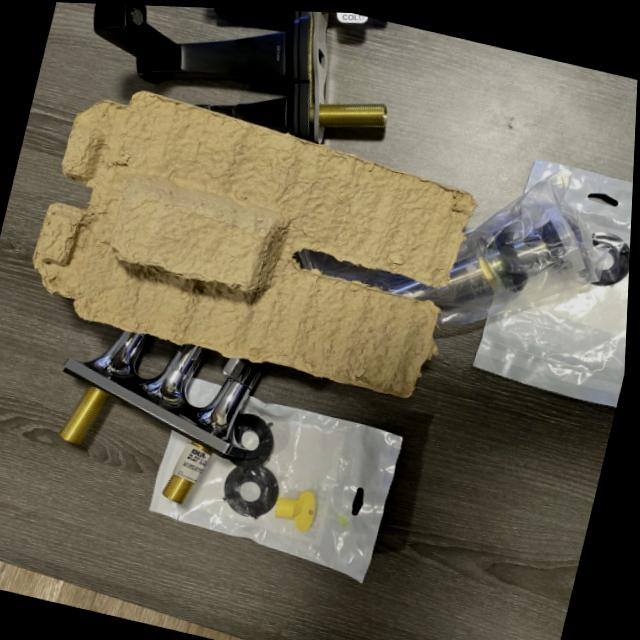10o: (60, 331, 260, 504)
11o: (296, 166, 608, 326)
12o: (150, 397, 402, 583), (186, 378, 221, 407)
13o: (473, 161, 633, 407)
9o: (94, 4, 387, 144)
